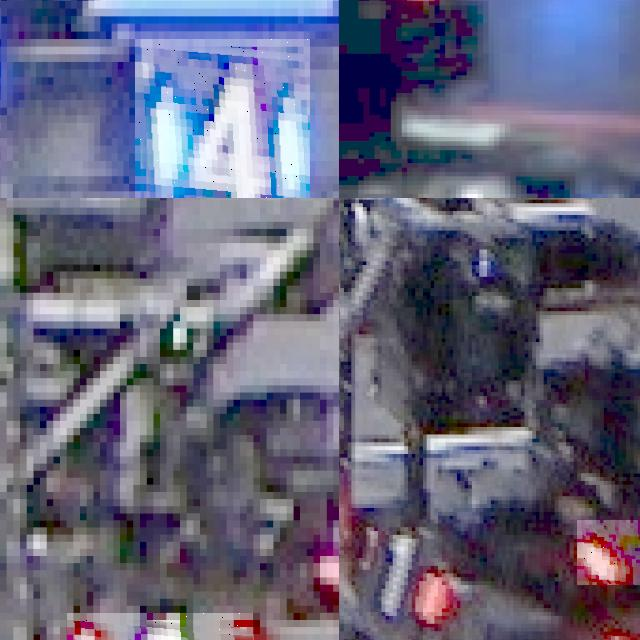B4: (135, 39, 309, 198)
R1: (66, 612, 253, 640), (577, 519, 640, 585)
